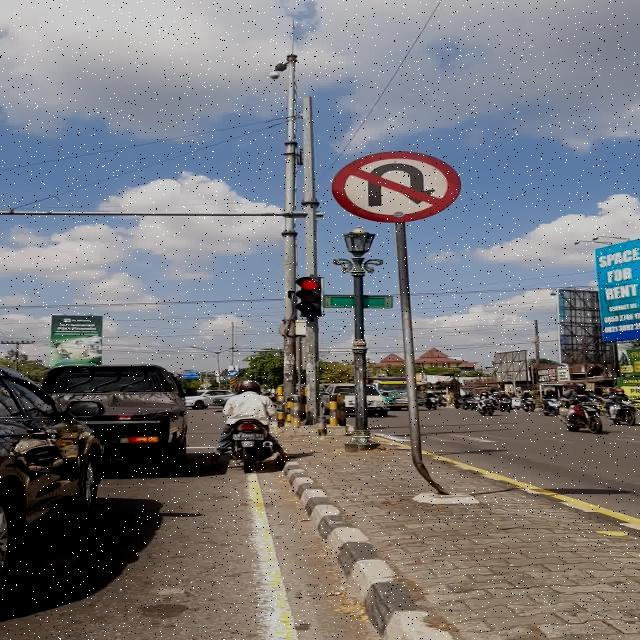Dilarang Putar Balik: (331, 151, 462, 222)
